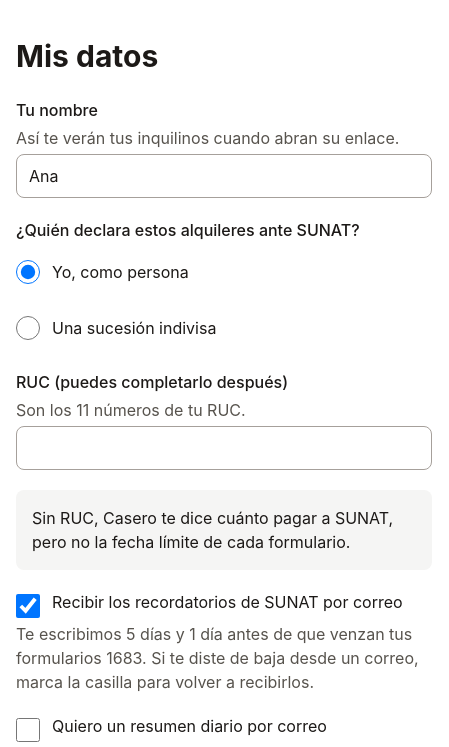
Test: profile page › explains what a missing RUC means and refuses a wrong one
expect the text "no la fecha límite de cada formulario" is shown: met, box [32,508,393,552]
Type "20131312954" into the field labelled "RUC (puedes completarlo después)" at [224, 448], box [16,426,432,470]
(page scrolled)
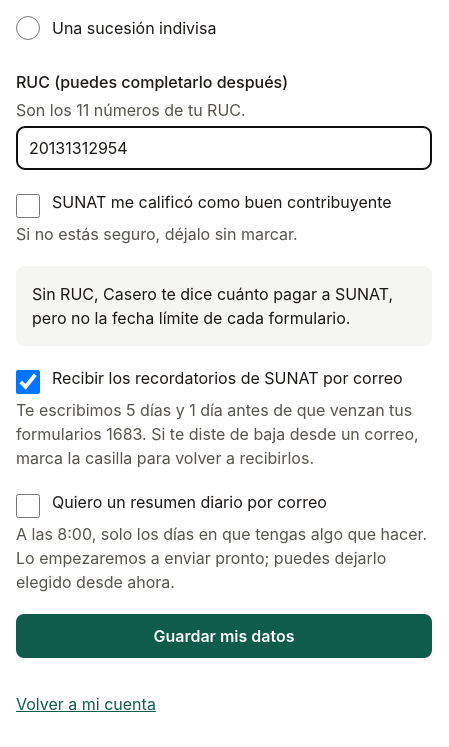
Click the button "Guardar mis datos" at [224, 636], box [16,614,432,658]
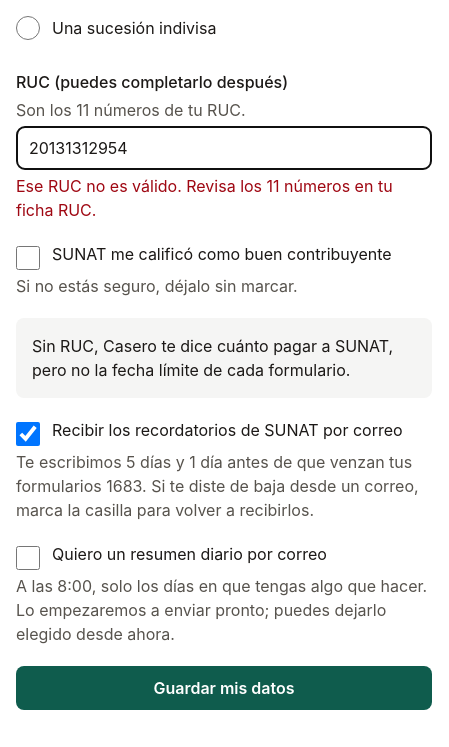
expect the text "Ese RUC no es válido. Revisa los 11 números en tu ficha RUC." is shown: met, box [16,174,432,222]
